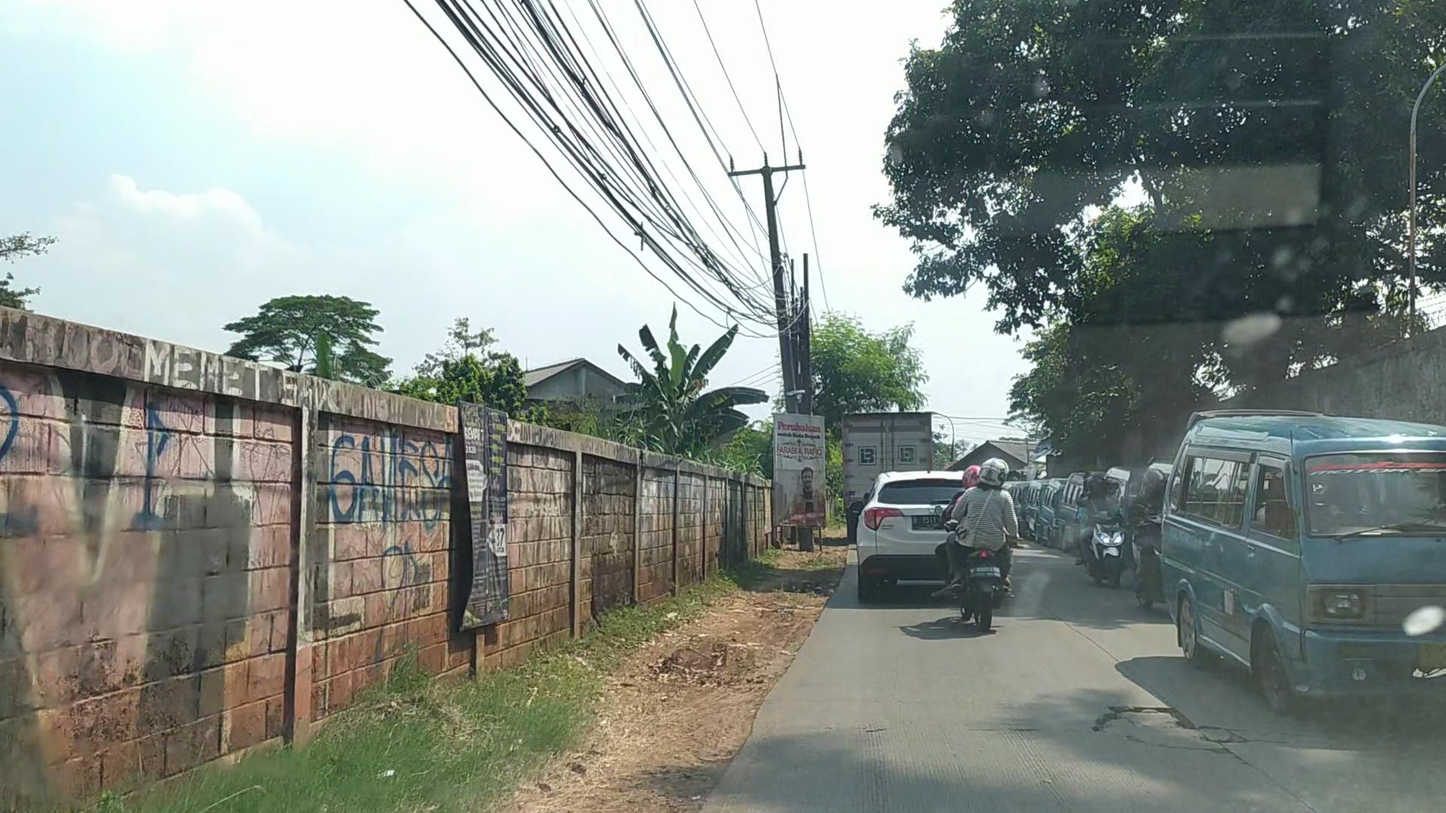pothole: (1090, 705, 1227, 756)
